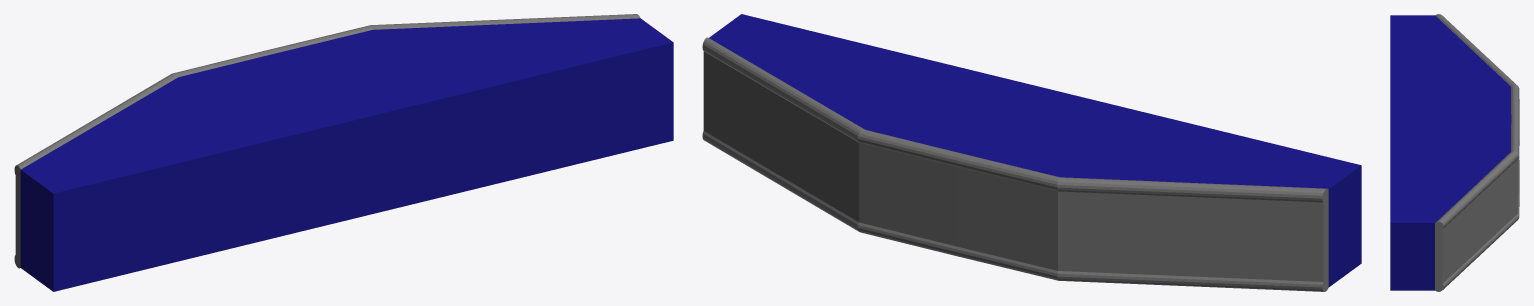
Rendered from Rail-Box A-Frame.fbx.
3 views of the same model, side by side, from view 1: azimuth 30°, elevation 25°; view 2: azimuth 150°, elevation 25°; view 3: azimuth 270°, elevation 25° (orthographic). The views are drawn at different scales.
Visible parts, largest first — view 1: Rail-Box A-Frame; view 2: Rail-Box A-Frame; view 3: Rail-Box A-Frame.
Boxes of the visible parts, x1,y1,x2,y2 form: Rail-Box A-Frame: [14, 14, 673, 291]; Rail-Box A-Frame: [702, 14, 1361, 291]; Rail-Box A-Frame: [1390, 14, 1519, 291].
Bounding box in the file's own units: 973 × 153 × 257.
